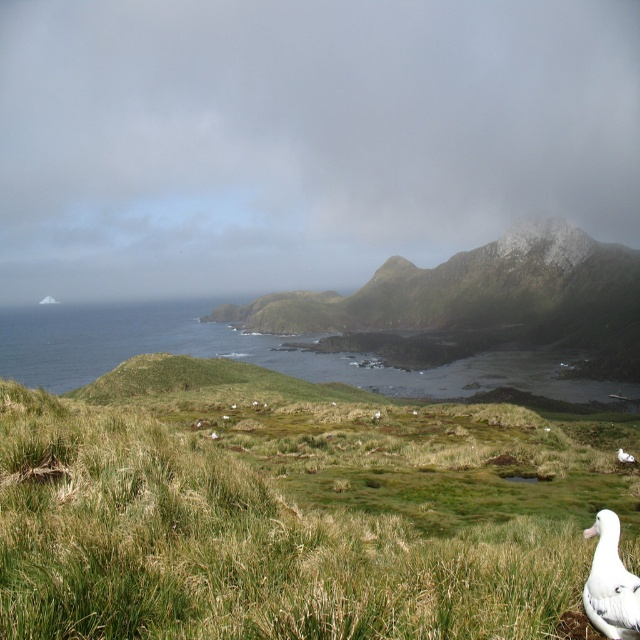Goose: (589, 519, 637, 627), (615, 445, 636, 462)
